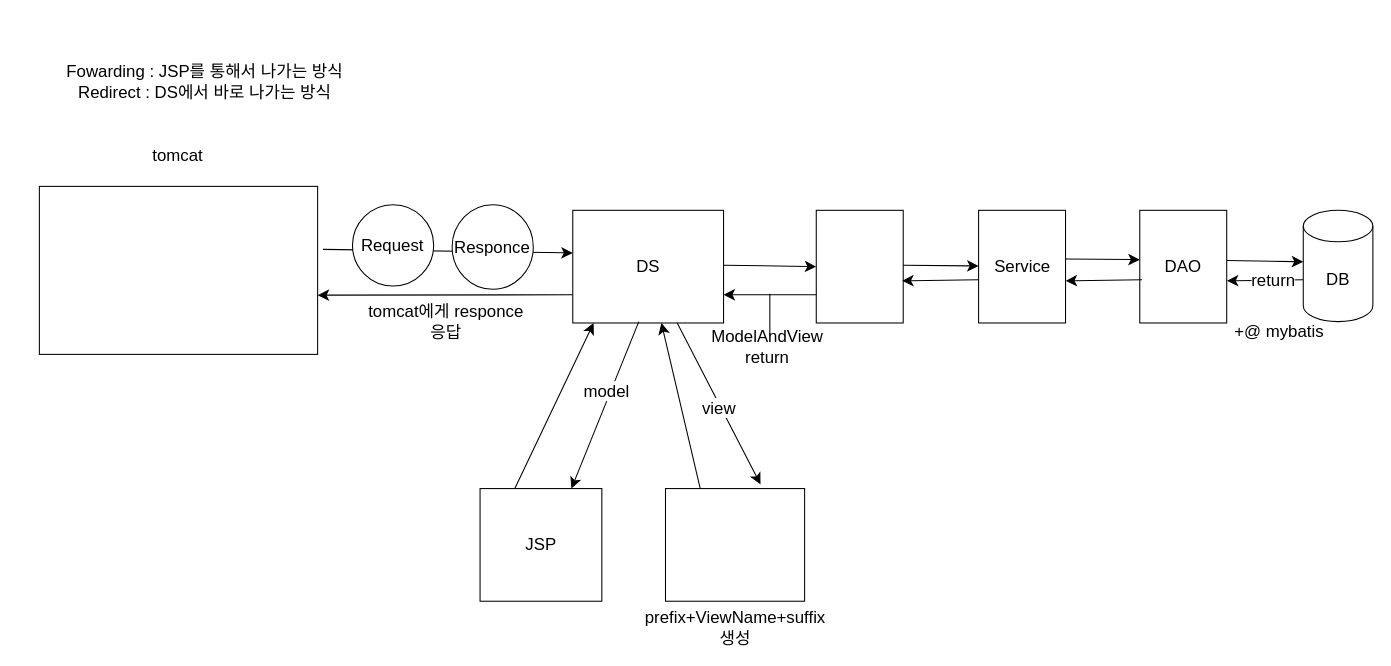
This 1391x666 diagram has some shape labels left out. Here are the shapes that lost their labels. From the top down, the box of each, then its label:
(38, 185, 318, 354): 요청이 들어오면 URL(ip,port),Method,prarmeter
(815, 209, 903, 323): Controller
(664, 488, 805, 601): internal Resource View Resolver
